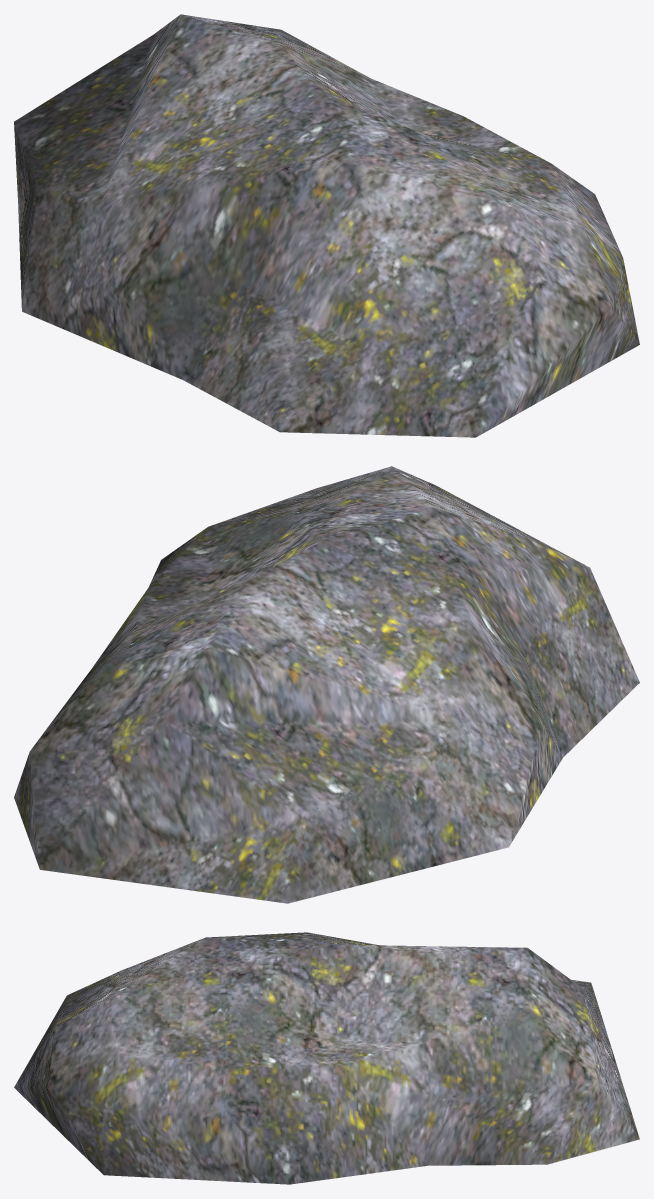
Rendered from rock_weatheredmossy_large_a2_l0.fbx.
3 views of the same model, one above another, from view 1: azimuth 30°, elevation 25°; view 2: azimuth 150°, elevation 25°; view 3: azimuth 270°, elevation 25° (orthographic). The views are drawn at different scales.
Parts seen in each view (by area): view 1: mesh_node; view 2: mesh_node; view 3: mesh_node.
Boxes of the visible parts, box(x1,y1,x2,y2) form: mesh_node: box(14, 14, 639, 437); mesh_node: box(14, 466, 639, 903); mesh_node: box(14, 932, 639, 1184).
Bounding box in the file's own units: 0.7668 × 0.3244 × 1.11.
1 material, 1 textured.
